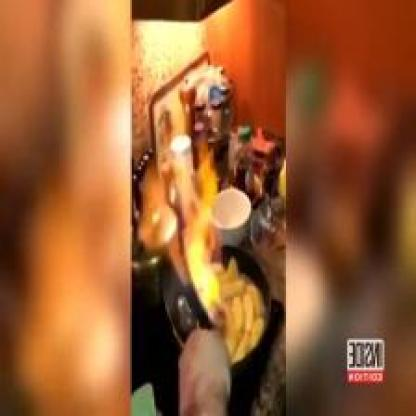Fire: (184, 152, 221, 299)
